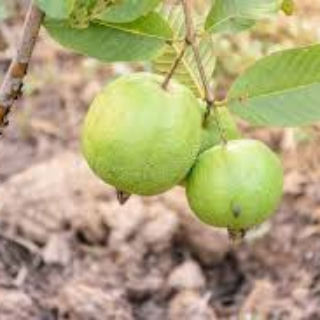oi: (78, 67, 199, 192), (186, 138, 295, 242)
